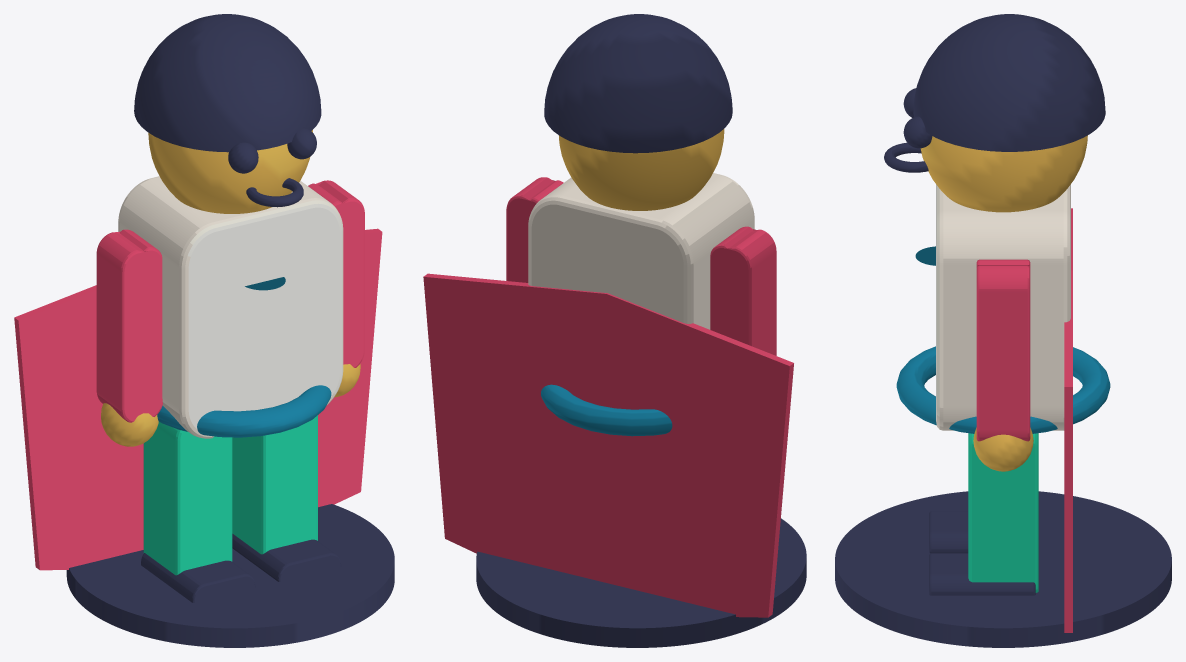
Rendered from 0926_秦汉图鉴_悬泉置.glb.
3 renders of one model, left to right at view 1: azimuth 30°, elevation 25°; view 2: azimuth 150°, elevation 25°; view 3: azimuth 270°, elevation 25°, orthographic.
Visible parts, largest first — view 1: card_0926; view 2: card_0926; view 3: card_0926.
Boxes of the visible parts, x1,y1,x2,y2 form: card_0926: [14, 14, 394, 647]; card_0926: [423, 14, 806, 647]; card_0926: [835, 14, 1171, 647].
Size of the model in its own units: 0.6739 by 1 by 0.5369.
